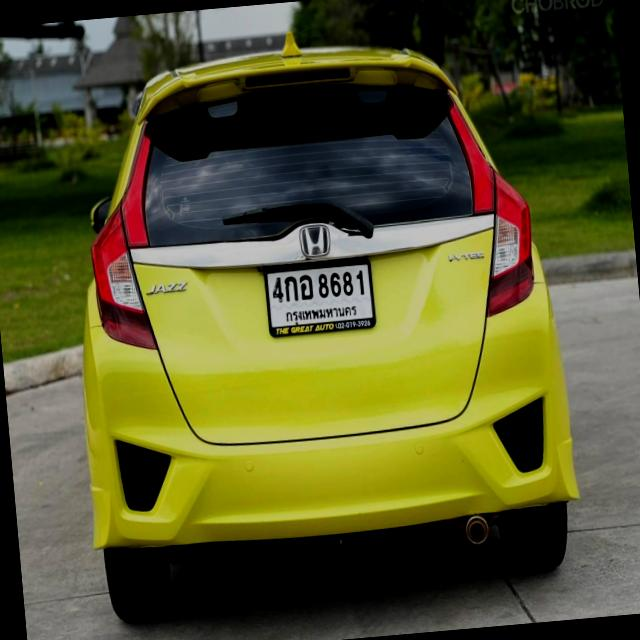license_plate: (260, 254, 378, 340)
